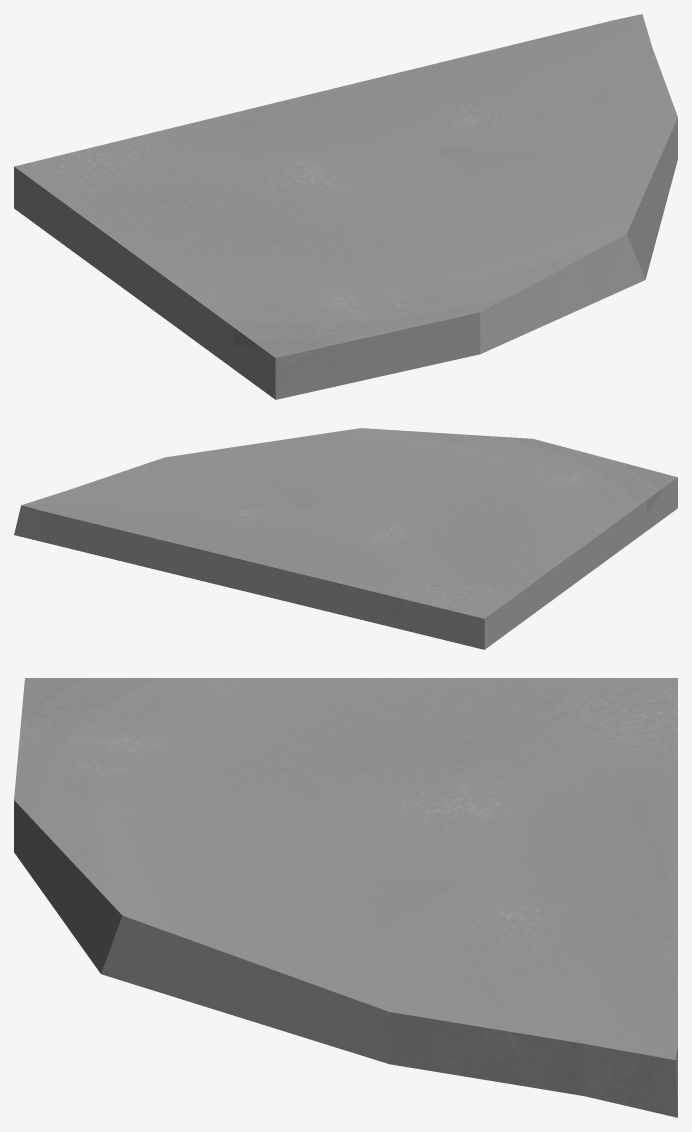
The model's file is Rock_tile_1.002.fbx.
3 renders of one model, top to bottom at view 1: azimuth 30°, elevation 25°; view 2: azimuth 150°, elevation 25°; view 3: azimuth 270°, elevation 25°, orthographic. The views are drawn at different scales.
Visible parts, largest first — view 1: Rock_tile_1.002; view 2: Rock_tile_1.002; view 3: Rock_tile_1.002.
Boxes of the visible parts, x1,y1,x2,y2 form: Rock_tile_1.002: (14,14,677,399); Rock_tile_1.002: (14,428,677,649); Rock_tile_1.002: (14,678,677,1117).
Size of the model in its own units: 0.3974 by 0.025 by 0.2877.
